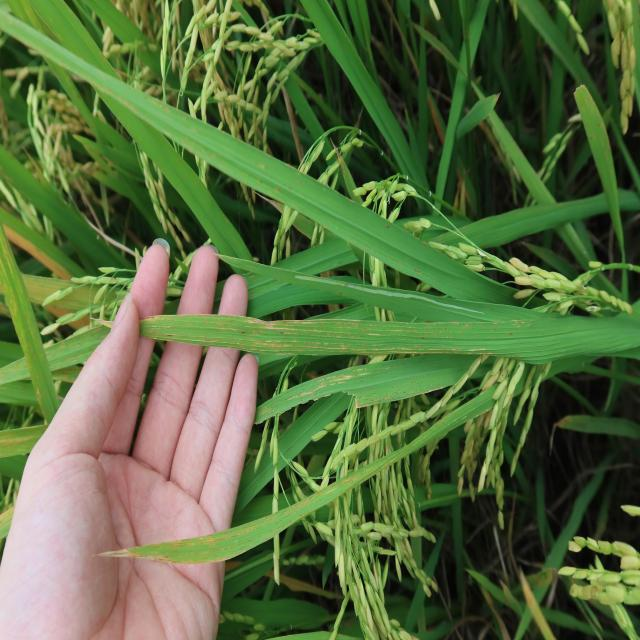Dom soc vi khuan: (271, 319, 391, 354), (248, 318, 277, 330)
